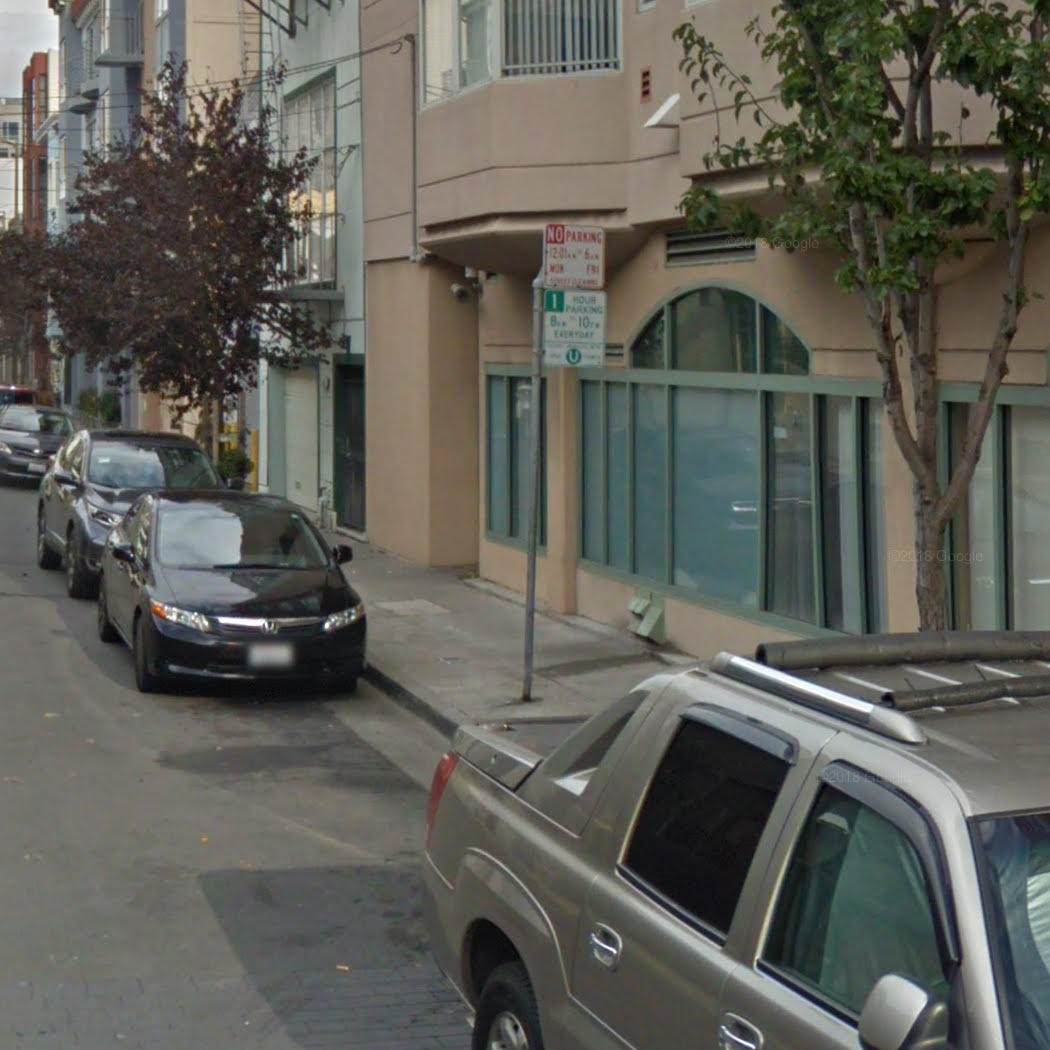1 Hour Parking: (541, 290, 608, 368)
No Parking: (541, 221, 607, 289)
